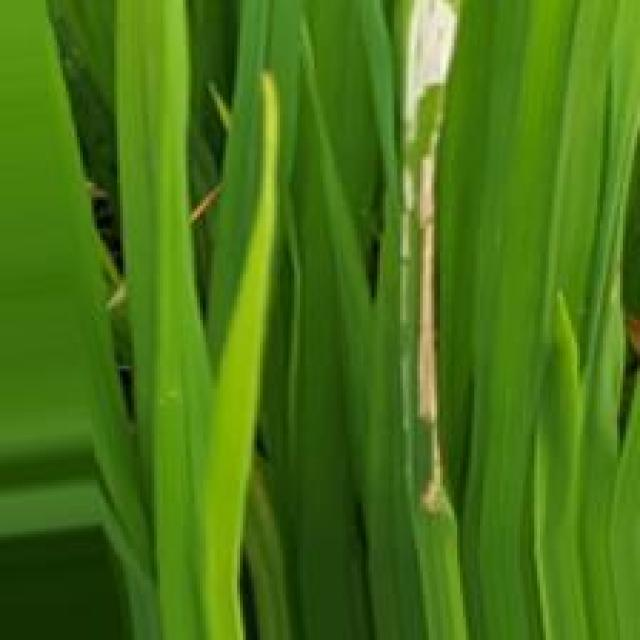Rice_Hispa: (405, 1, 456, 526)
